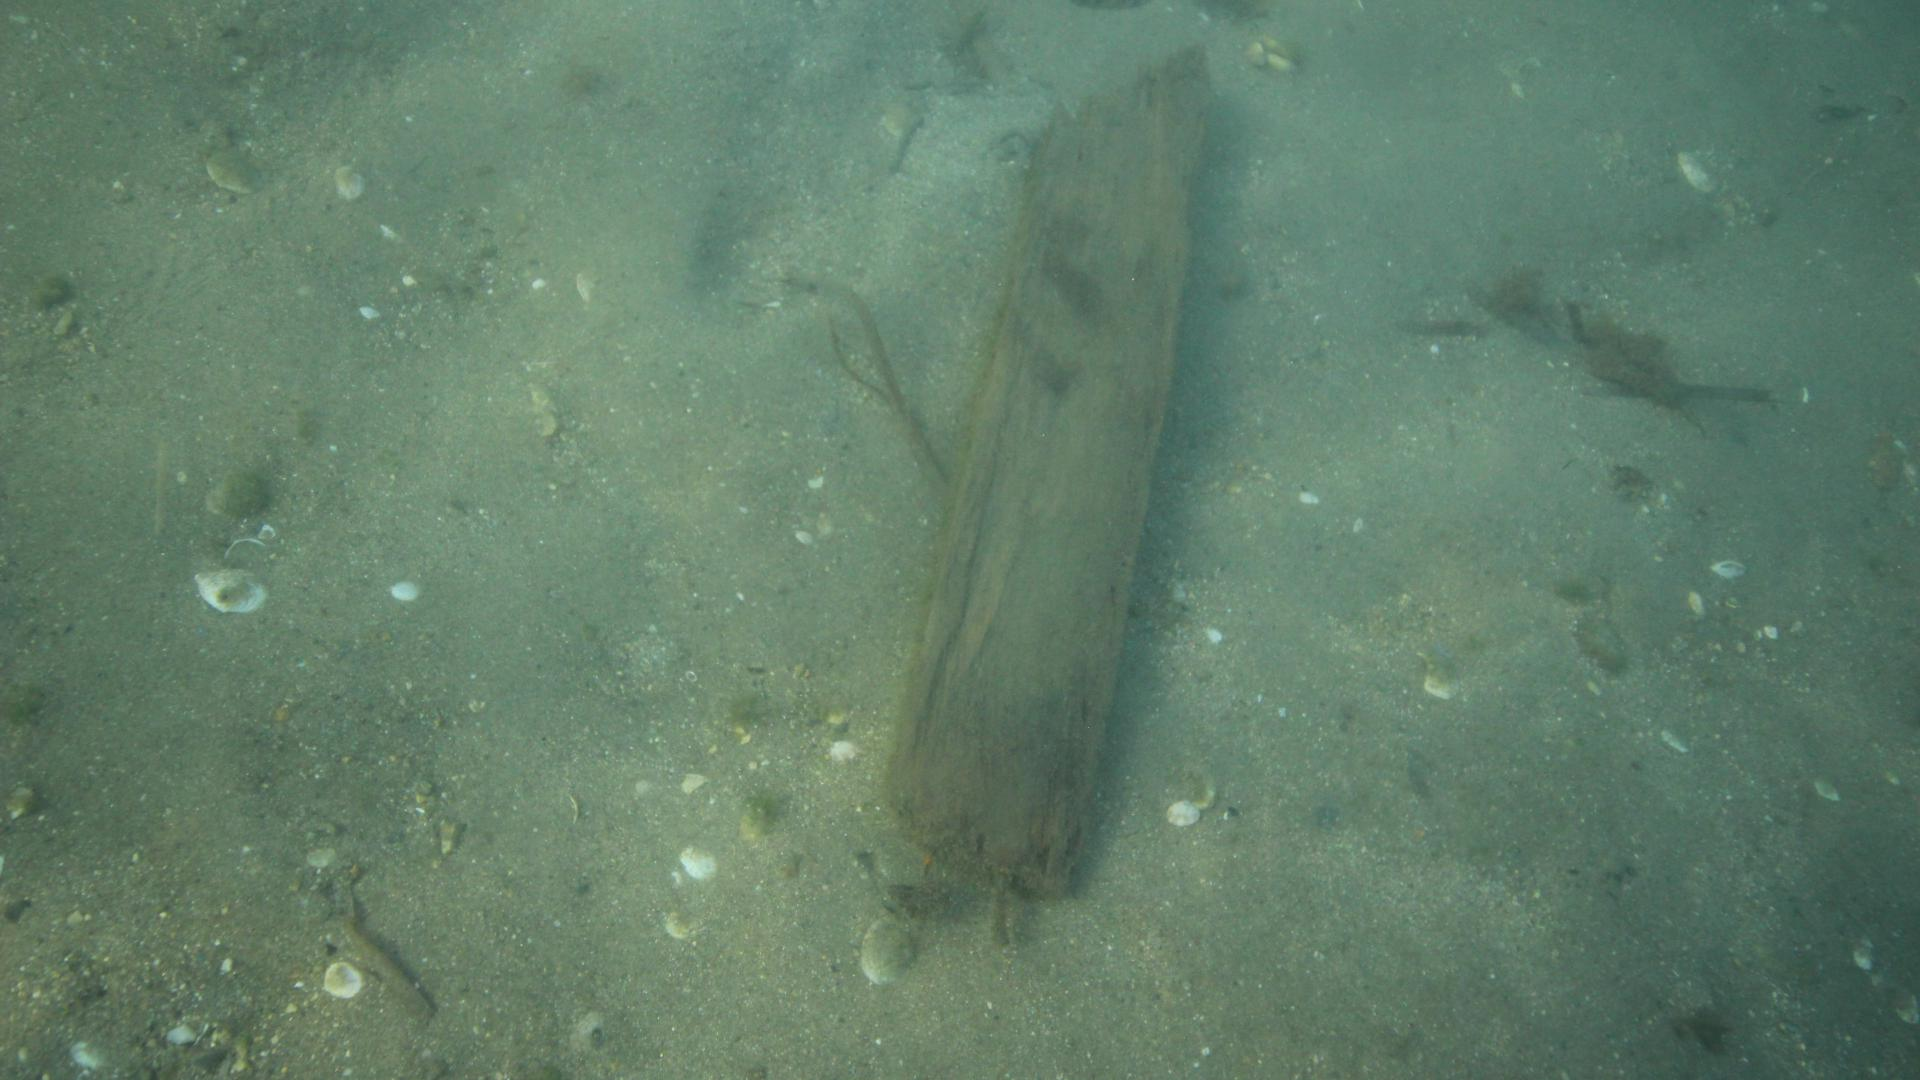wood: (881, 41, 1215, 905)
